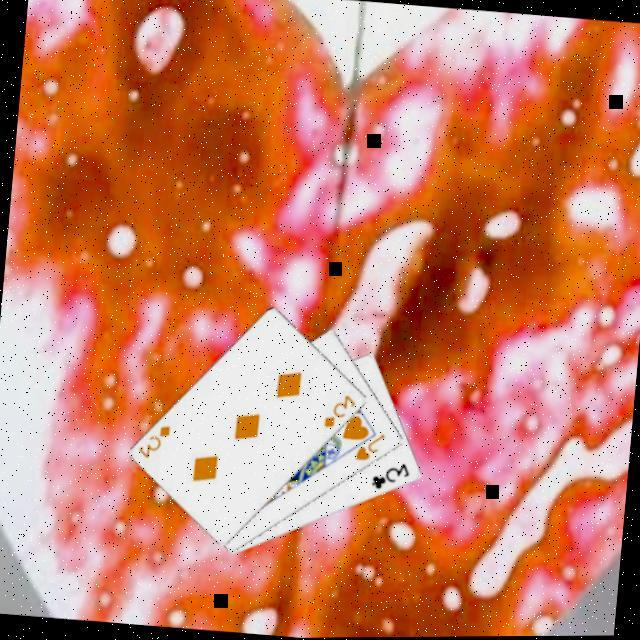3C: (368, 456, 414, 494)
3D: (321, 387, 360, 431), (136, 418, 174, 461)
JH: (352, 427, 389, 464)
